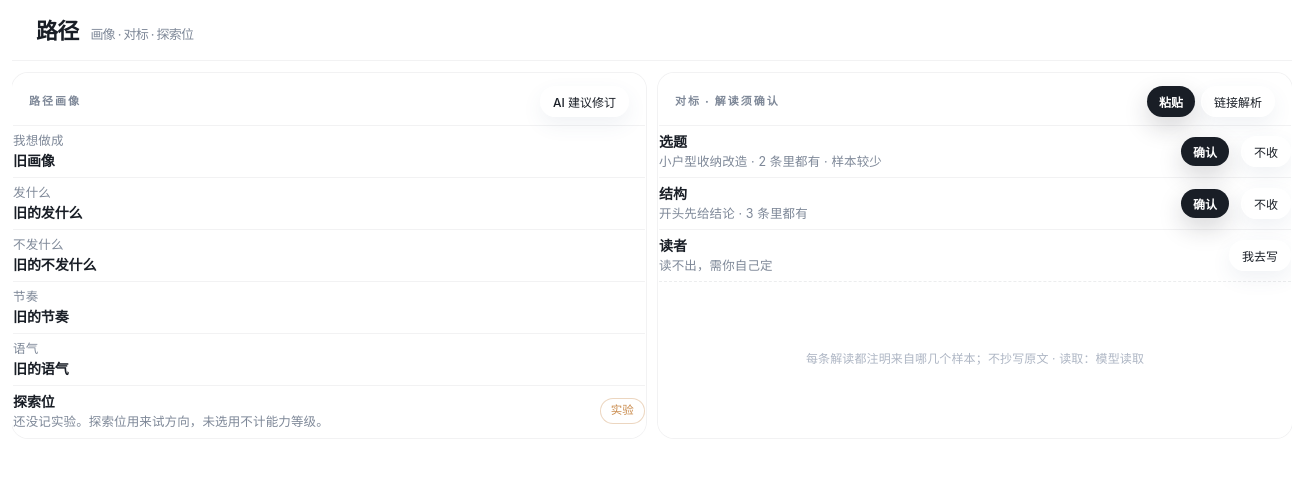
Test: PathPage › saves 发什么 into the publish_focus path-profile field
Click the text "旧的发什么".
click(48, 213)  # box [13, 204, 82, 221]
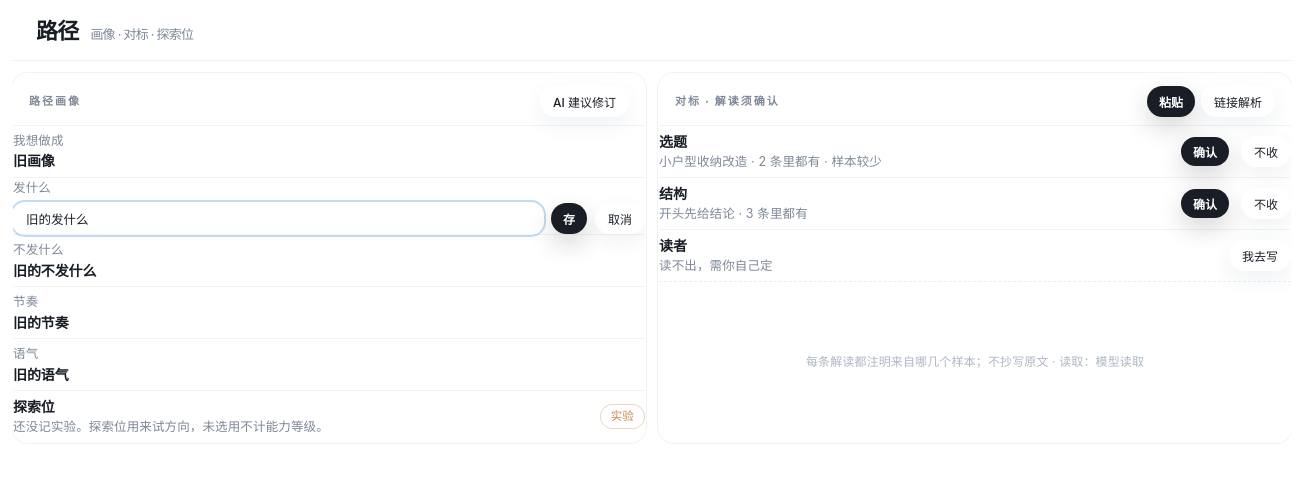
Replace the text in the field named "发什么" with "可复现的小方法 · 踩坑复盘" at (278, 219), box [13, 203, 543, 234]
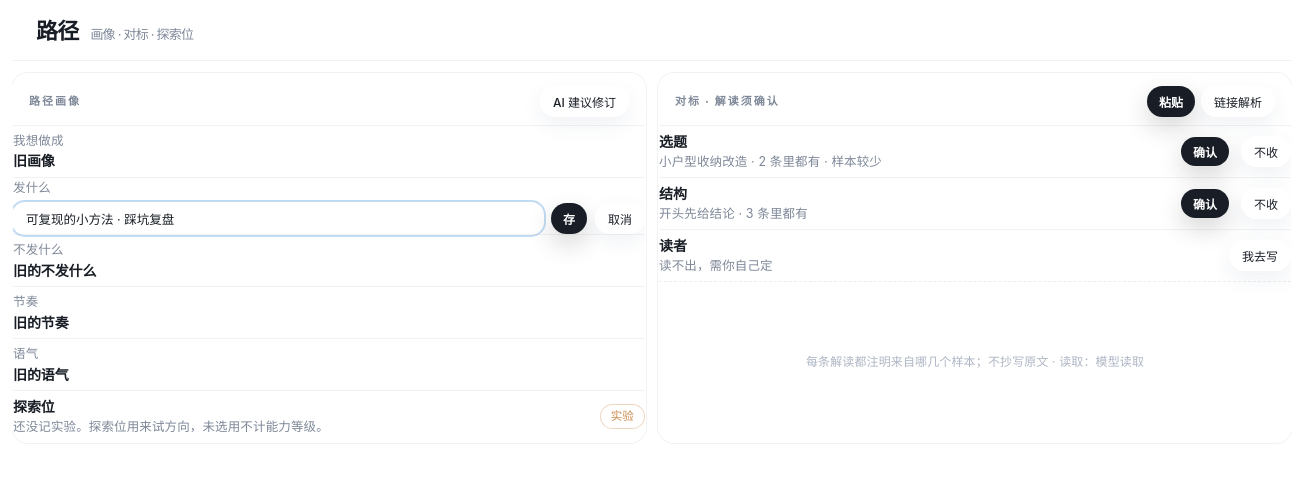
Click the button "存".
click(569, 219)  # box [551, 203, 587, 234]
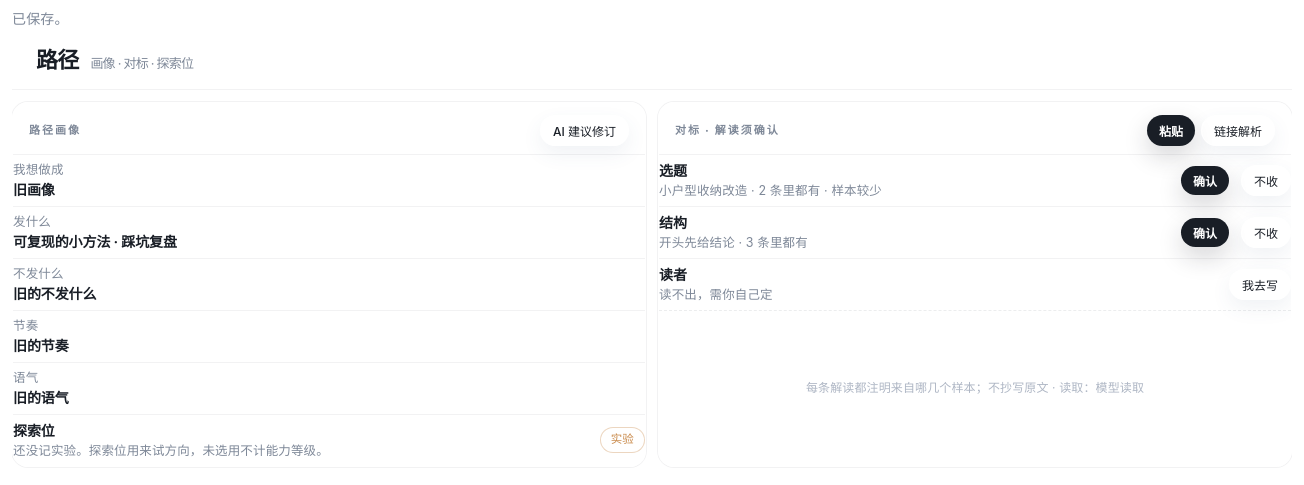
Result: the text "已保存。" is shown at [12, 10, 68, 27]
Result: the text "可复现的小方法 · 踩坑复盘" is shown at [13, 233, 177, 250]
